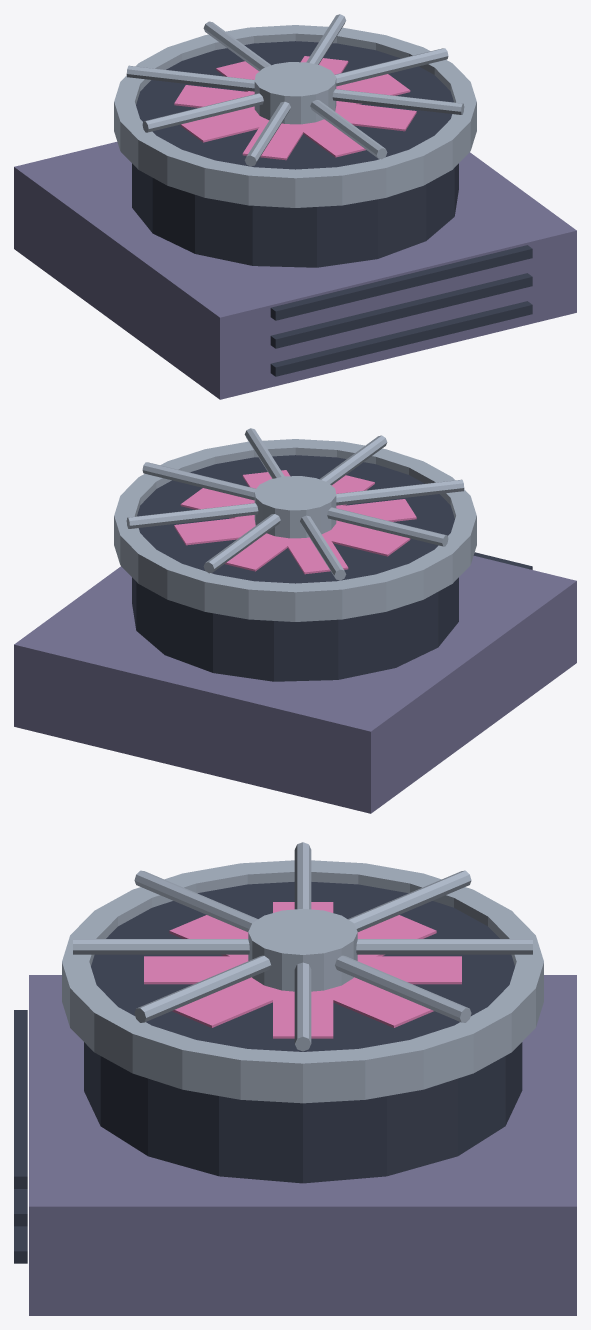
The model's file is neon-dispatch-rooftop-ventilation-fan__182.glb.
The picture shows the model from 3 angles, top to bottom: view 1: azimuth 30°, elevation 25°; view 2: azimuth 150°, elevation 25°; view 3: azimuth 270°, elevation 25°; orthographic projection. The views are drawn at different scales.
Parts seen in each view (by area): view 1: shell, dark, metal, accent; view 2: shell, metal, dark, accent; view 3: shell, metal, dark, accent.
Part boxes in pixels (x1=…): shell: x1=14, y1=142, x2=576, y2=399; dark: x1=132, y1=41, x2=532, y2=376; metal: x1=114, y1=14, x2=476, y2=207; accent: x1=174, y1=56, x2=416, y2=160; shell: x1=14, y1=556, x2=576, y2=813; metal: x1=114, y1=428, x2=476, y2=621; dark: x1=132, y1=455, x2=532, y2=681; accent: x1=174, y1=470, x2=416, y2=574; shell: x1=29, y1=975, x2=576, y2=1315; metal: x1=62, y1=842, x2=543, y2=1103; dark: x1=14, y1=882, x2=522, y2=1263; accent: x1=144, y1=902, x2=461, y2=1038.
Size of the model in its own units: 1 by 0.54 by 1.03.
